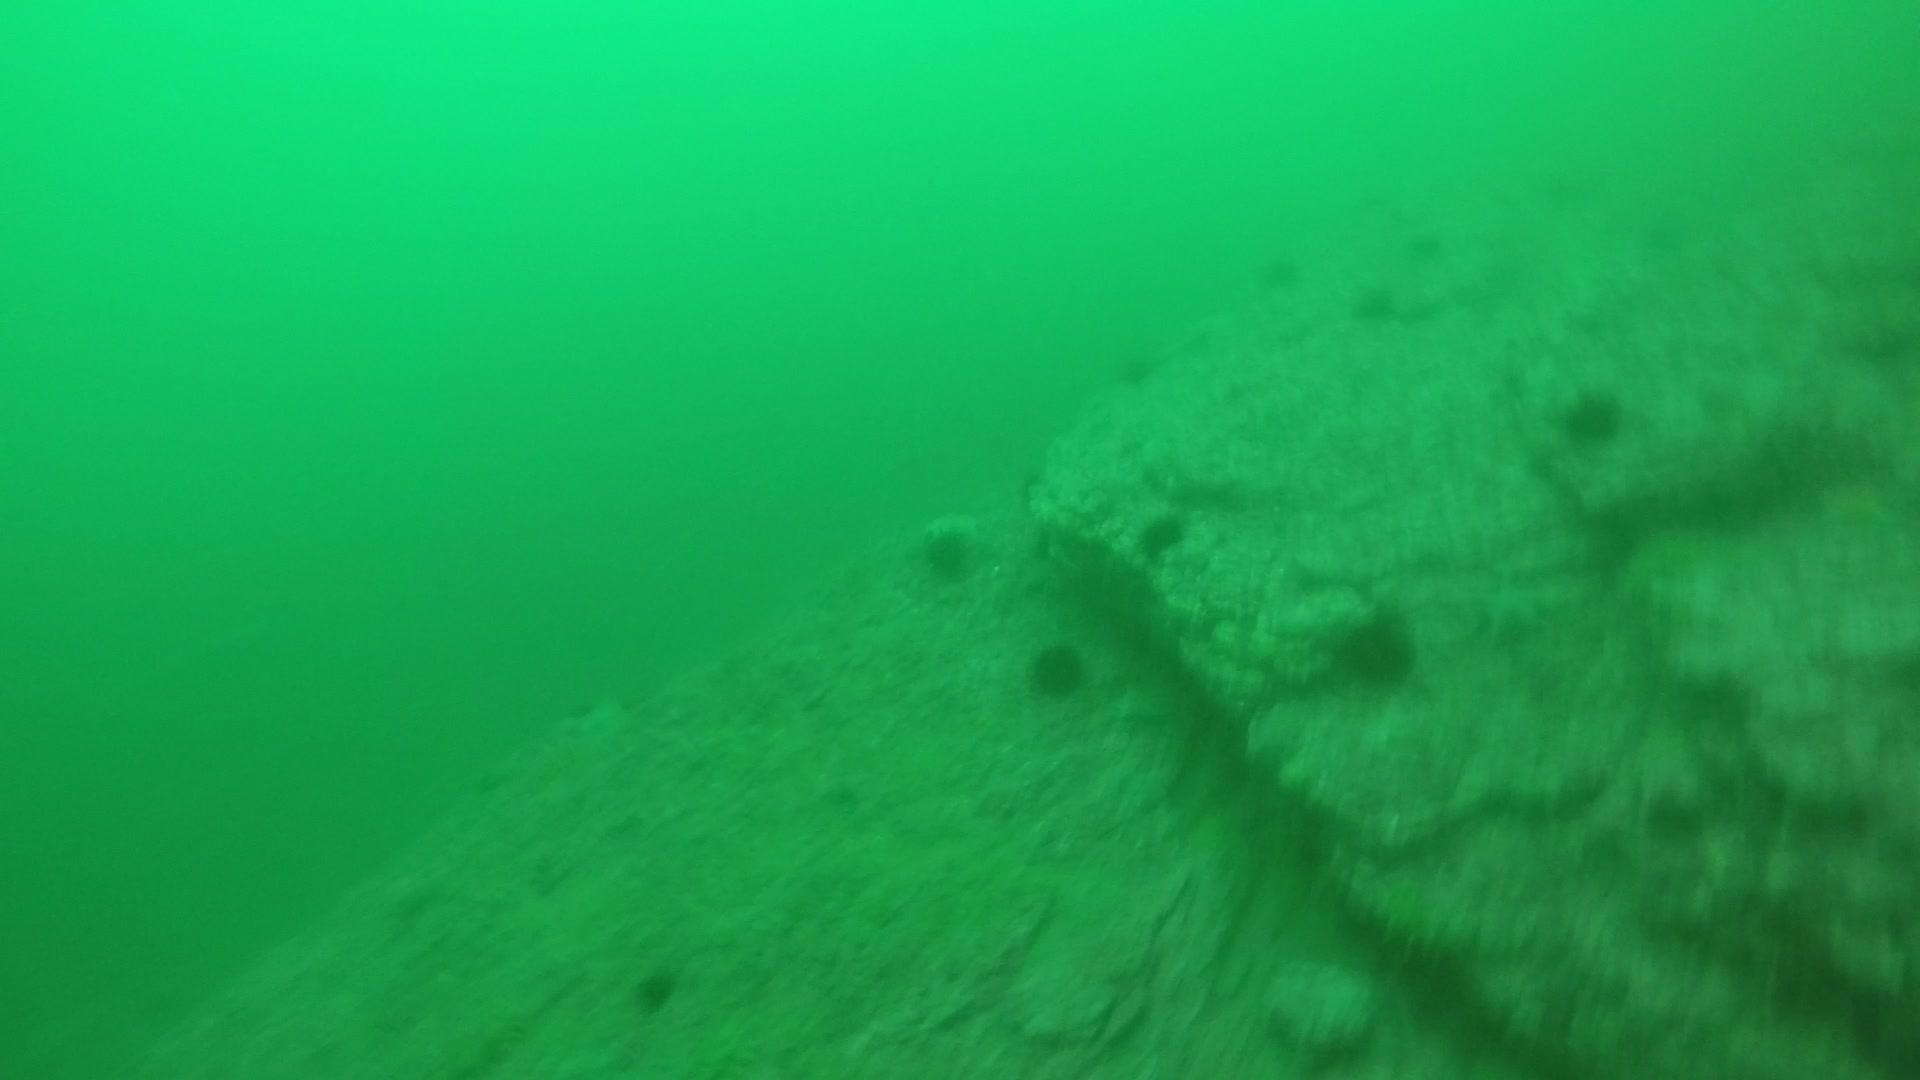echinus: (1327, 604, 1422, 694), (1021, 636, 1095, 703), (1553, 382, 1629, 448), (913, 518, 982, 585), (1131, 506, 1192, 563), (626, 961, 684, 1017), (1411, 222, 1457, 266), (1348, 280, 1393, 324), (1124, 347, 1168, 392), (1251, 255, 1298, 298)
